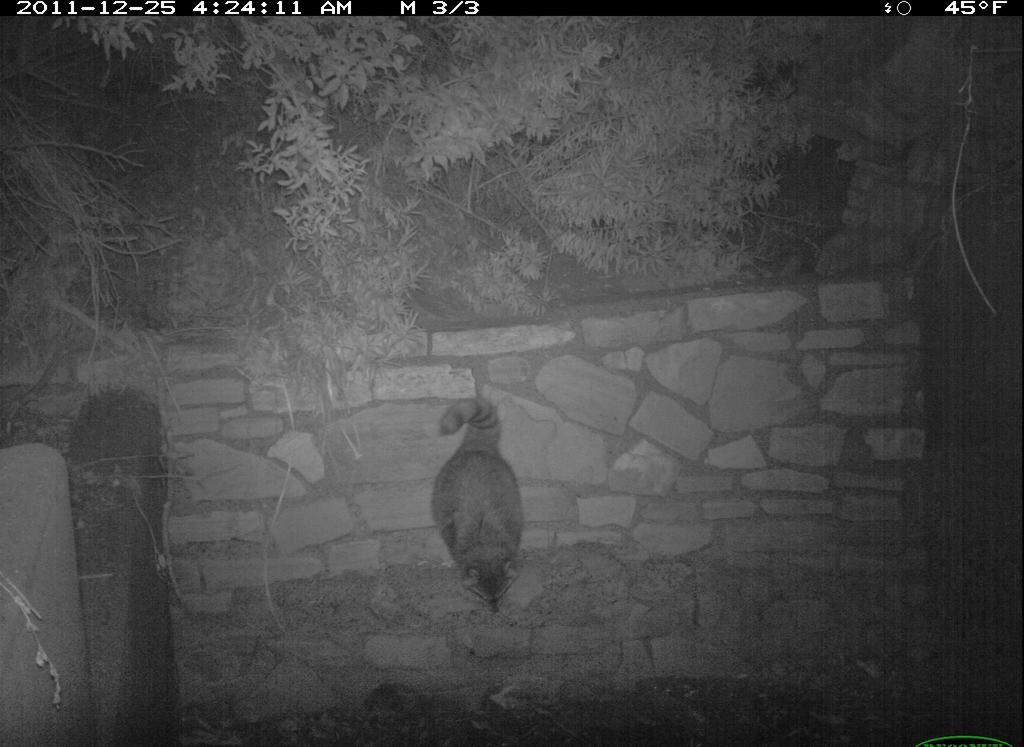raccoon: (418, 376, 546, 625)
